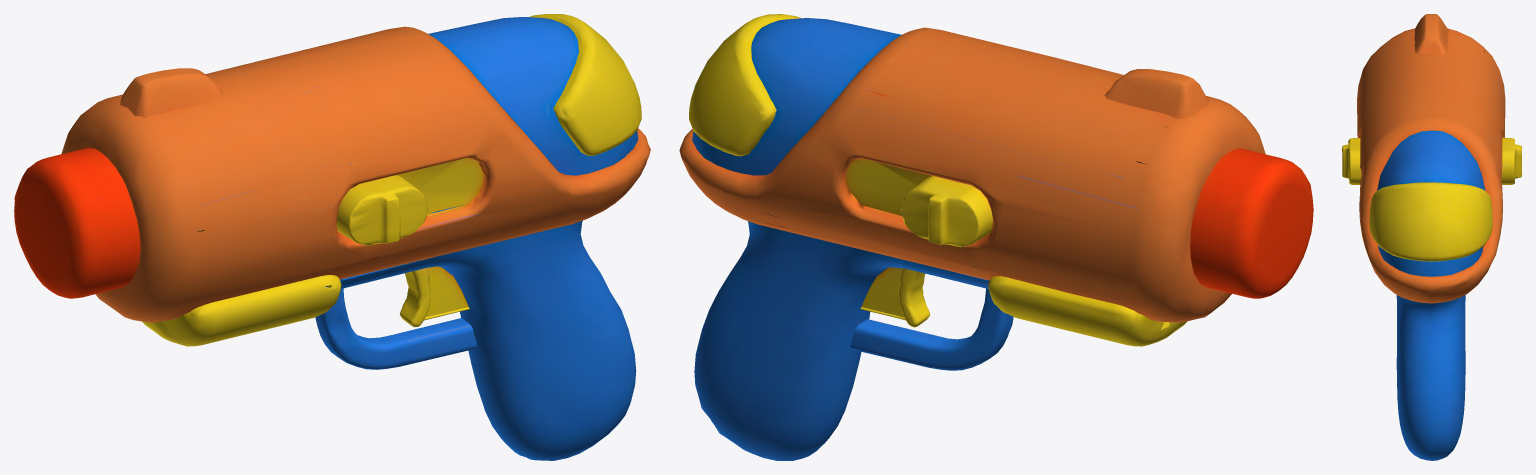
Rendered from pistol.glb.
3 renders of one model, left to right at view 1: azimuth 30°, elevation 25°; view 2: azimuth 150°, elevation 25°; view 3: azimuth 270°, elevation 25°, orthographic. The views are drawn at different scales.
Visible parts, largest first — view 1: geometry_0; view 2: geometry_0; view 3: geometry_0.
Part boxes in pixels (x1,y1,x2,y2): geometry_0: (14,14,650,460); geometry_0: (679,14,1313,460); geometry_0: (1342,14,1521,460).
Bounding box in the file's own units: 0.957 × 0.7339 × 0.3838.
1 material, 1 textured.
